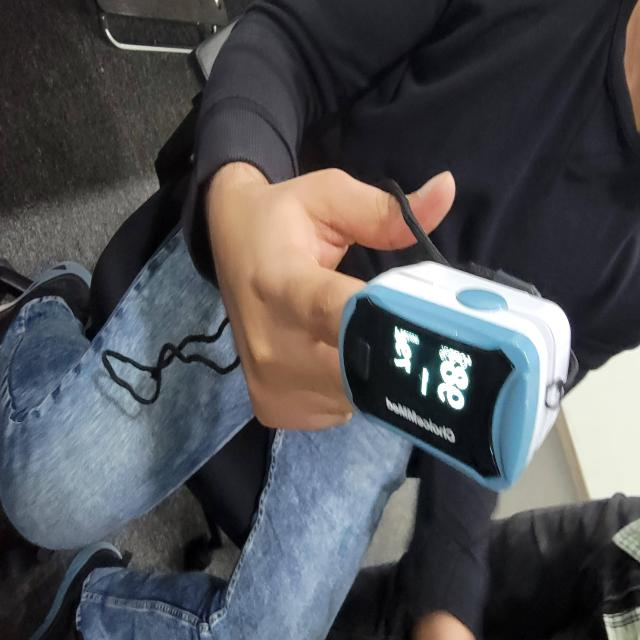spo2: (337, 261, 575, 494)
